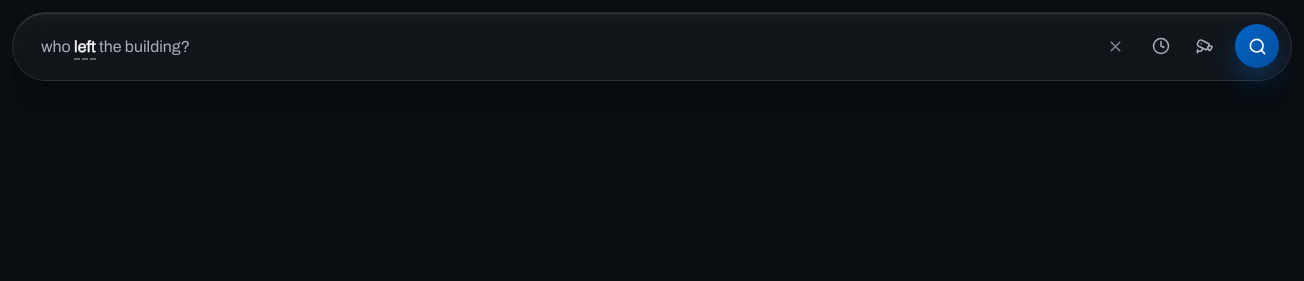
Test: QueryField › adds a picked camera to the query text, and removes it when unpicked
Click the button named "Choose cameras" at (1205, 46), box [1183,24,1227,68]
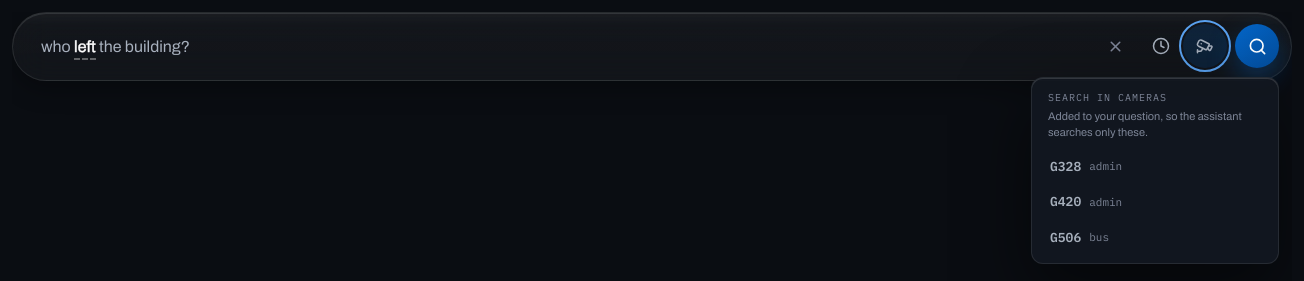
Click the button "G328 admin" at (1155, 167), box [1040,149,1270,184]
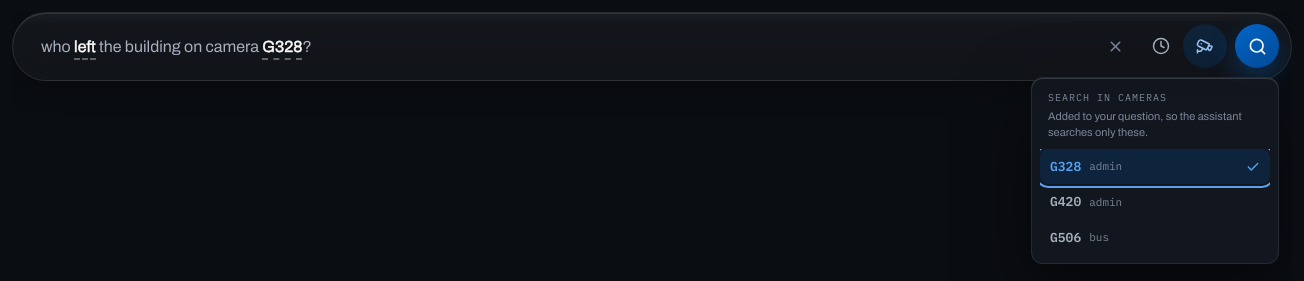
Result: the element showing "who left the building on camera G328?" is shown at [41,38,312,60]
Click the button "G420 admin" at (1155, 202), box [1040,184,1270,220]
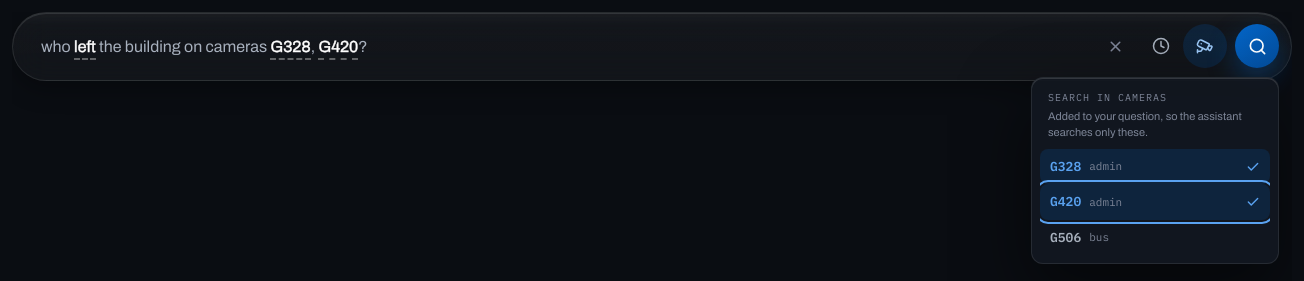
Result: the element showing "who left the building on cameras G328, G420?" is shown at [41,38,368,60]
Click the button "G328 admin" at (1155, 167), box [1040,149,1270,184]
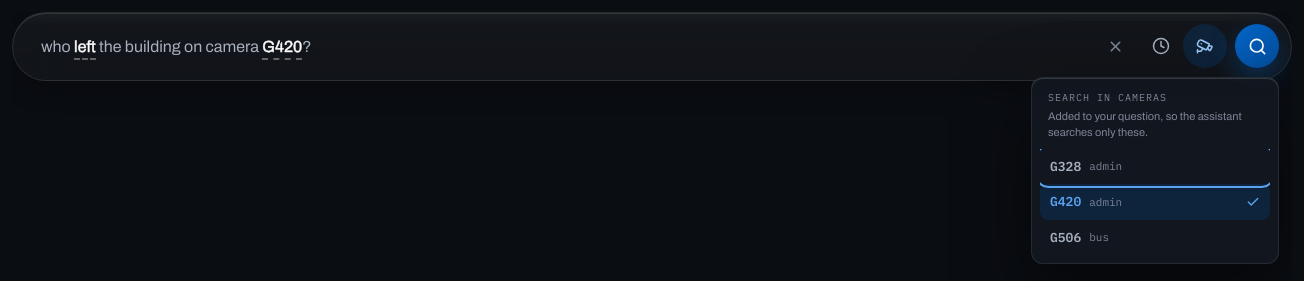
Click the button "G420 admin" at (1155, 202), box [1040,184,1270,220]
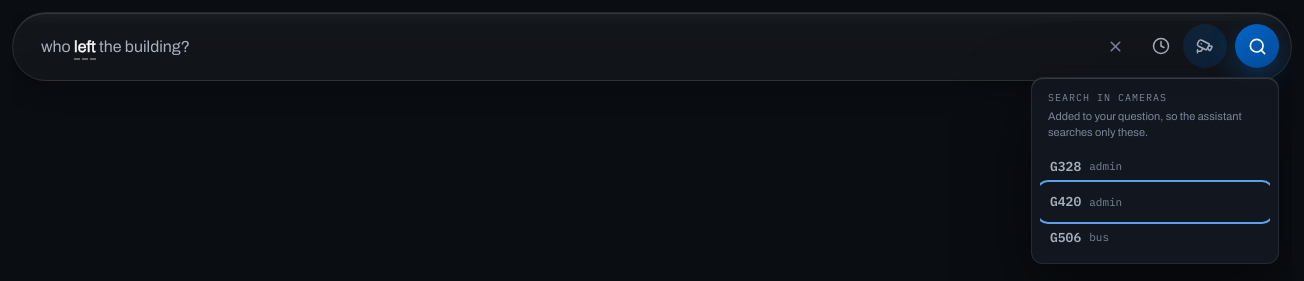
Result: the element showing "who left the building?" is shown at [41,38,190,60]
